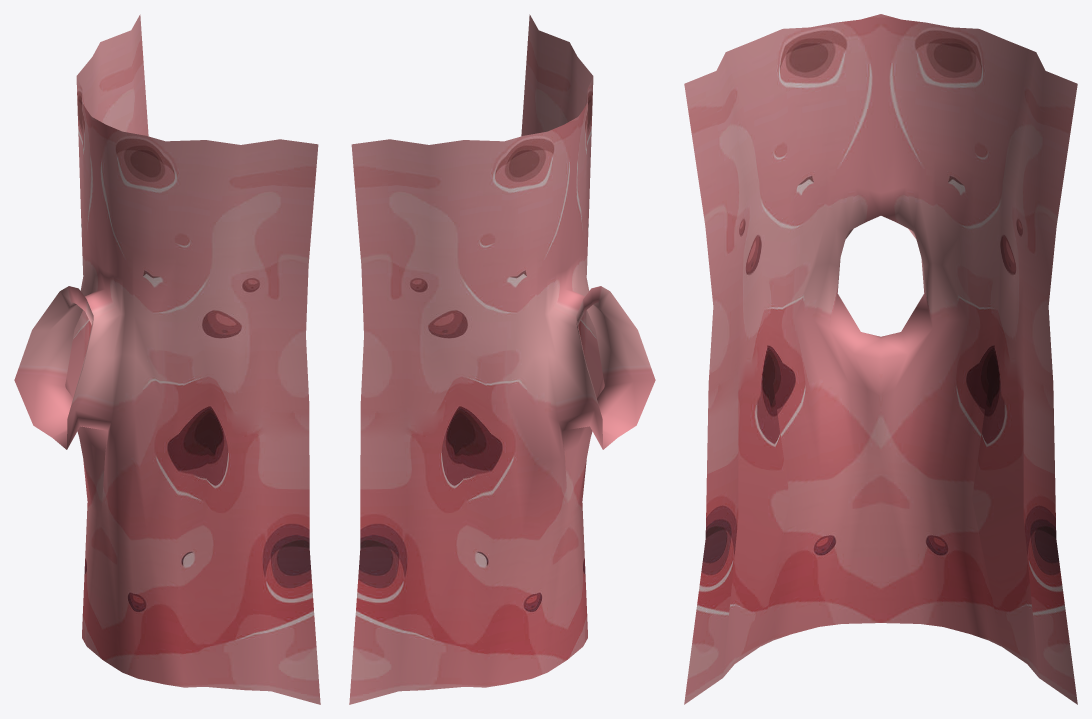
Rendered from tonnelHoleModel.fbx.
The picture shows the model from 3 angles, left to right: view 1: azimuth 30°, elevation 25°; view 2: azimuth 150°, elevation 25°; view 3: azimuth 270°, elevation 25°; orthographic projection. The views are drawn at different scales.
Visible parts, largest first — view 1: Cylinder; view 2: Cylinder; view 3: Cylinder.
Boxes of the visible parts, x1,y1,x2,y2 form: Cylinder: (14,14,320,704); Cylinder: (349,14,655,704); Cylinder: (684,14,1077,704).
Bounding box in the file's own units: 199 × 560 × 322.
